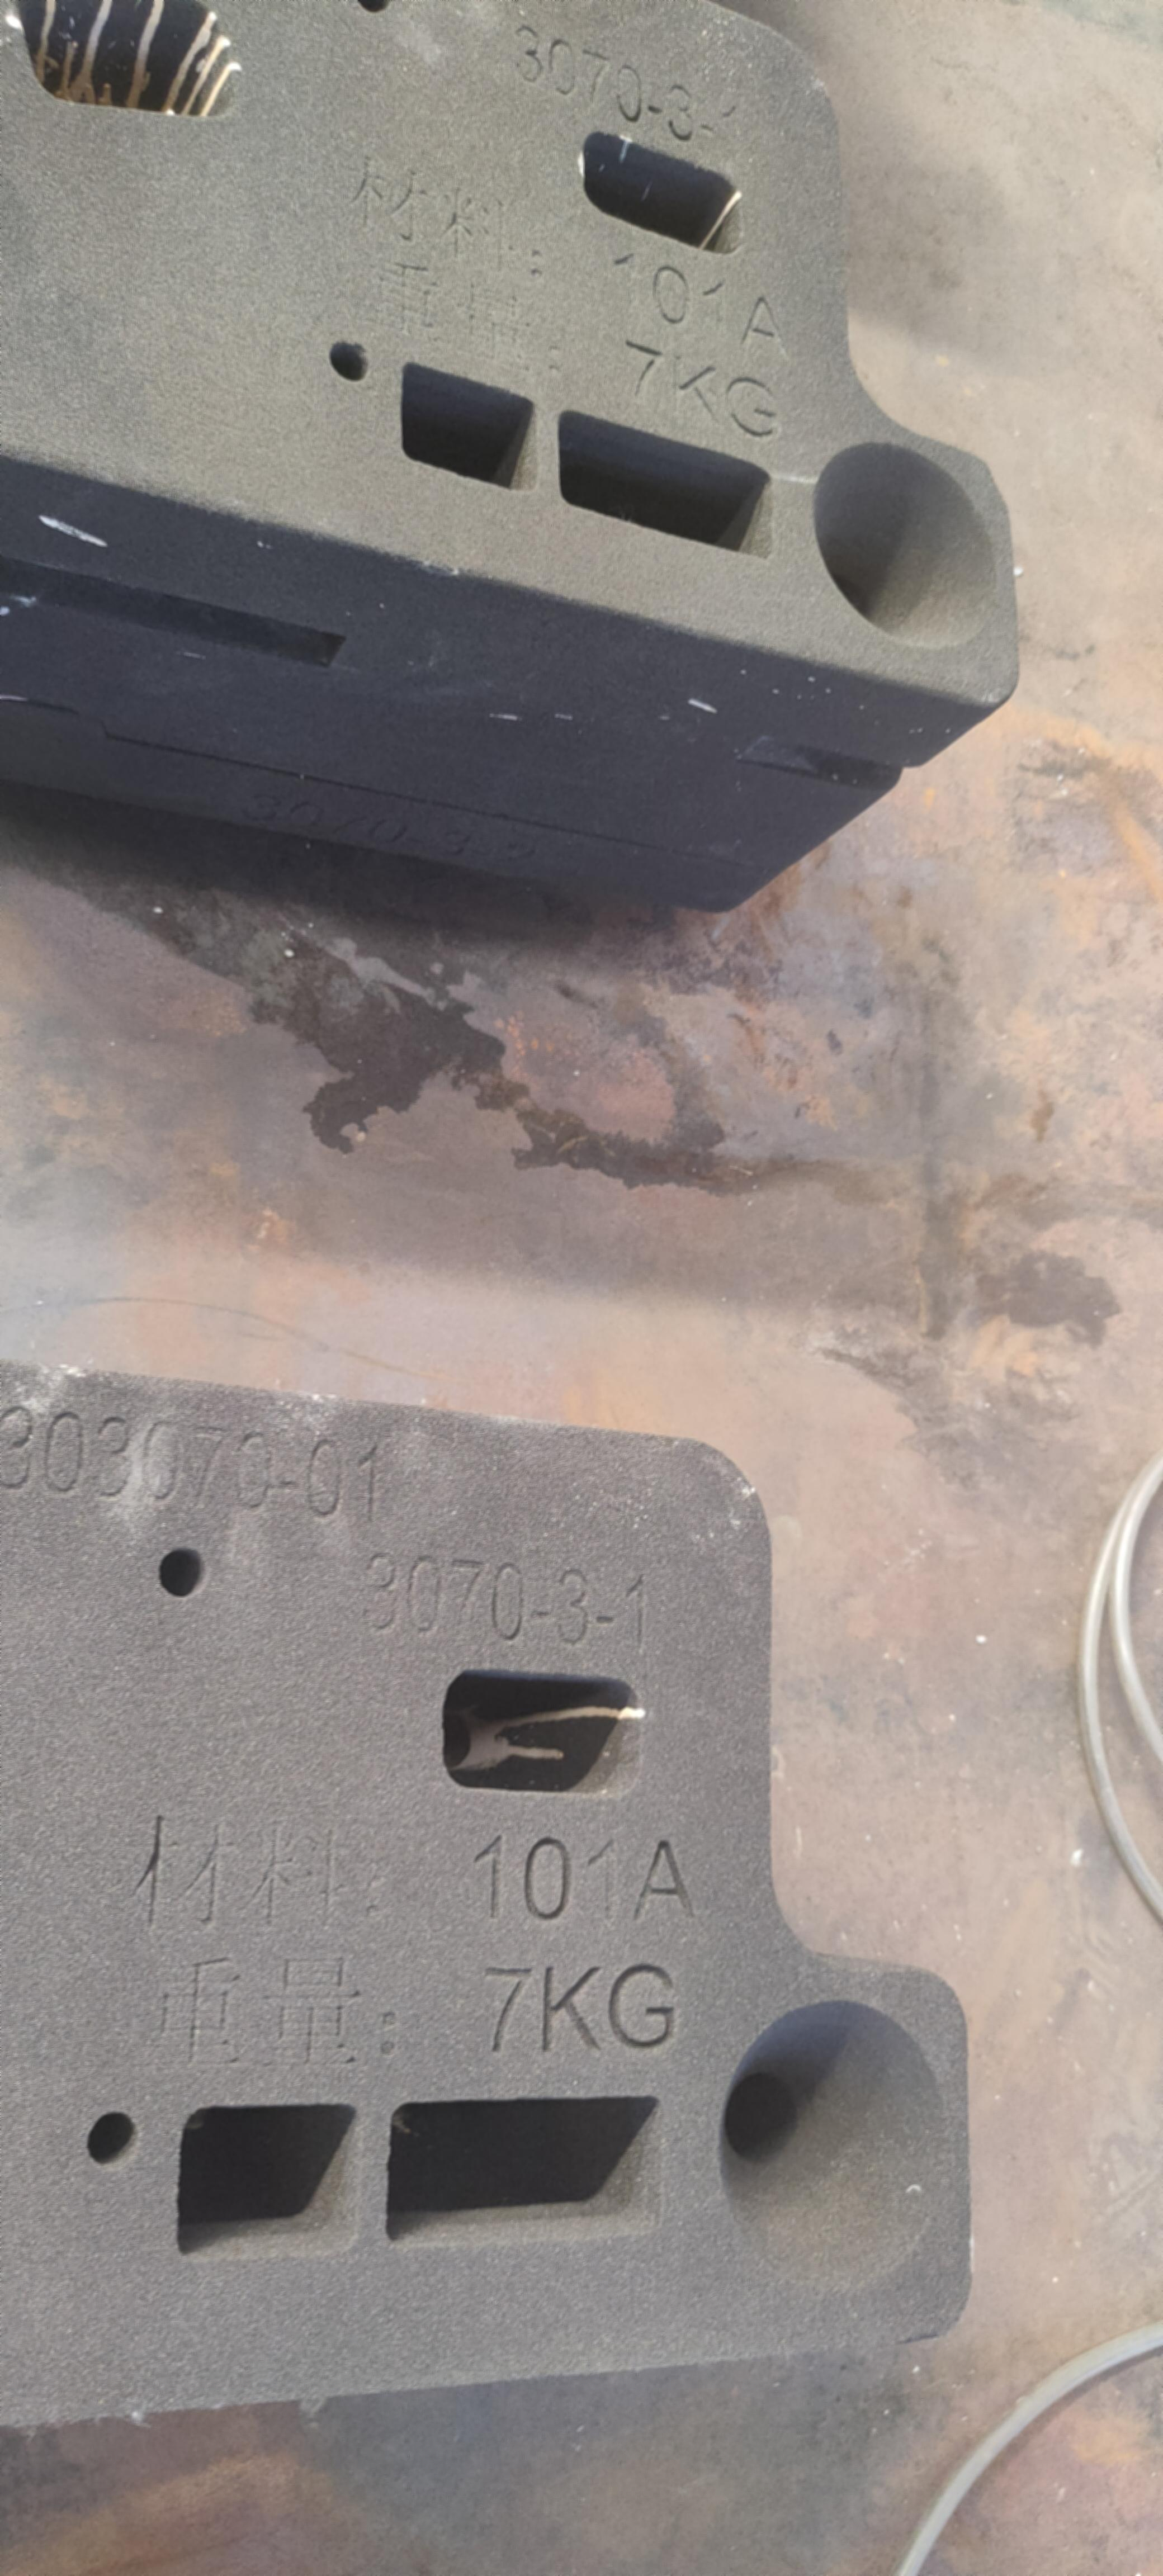pouring hole: (716, 2001, 951, 2297), (805, 435, 1012, 656)
